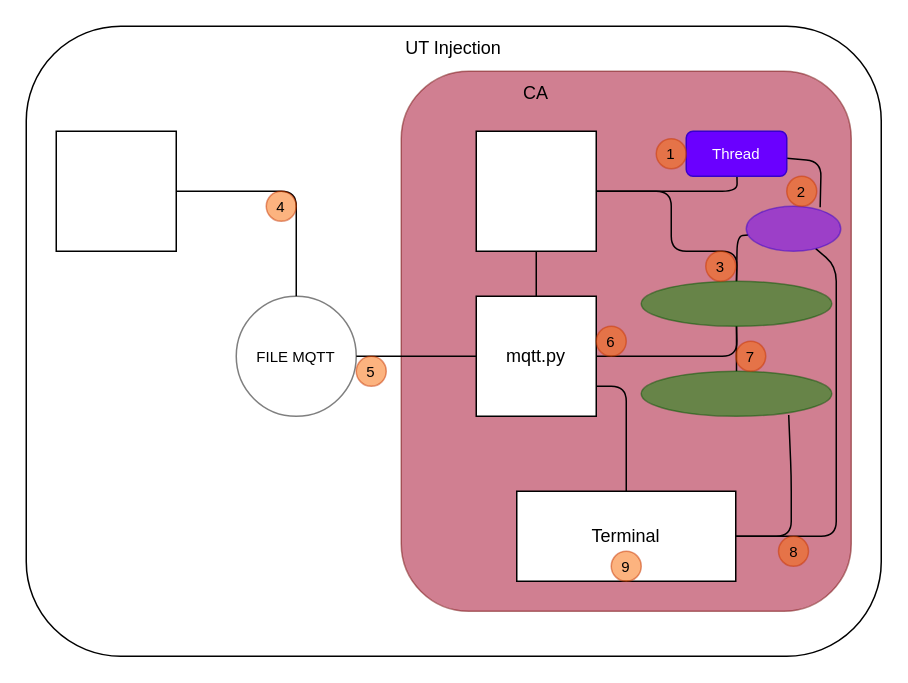
Some shapes in this 908 by 683 pixel diagram are drawn without their labels. Each missing label, with the centre of its shape:
app.py: (x=535, y=190)
event: (x=793, y=228)
event.set(): (x=736, y=393)
mqtt_config(app, event): (x=736, y=303)
Vendeur: (x=115, y=190)
